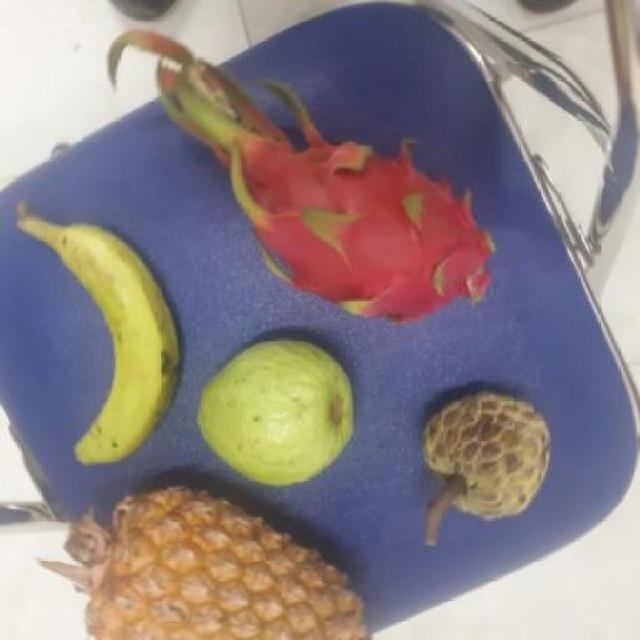banana: (44, 220, 184, 468)
dragon fruit: (232, 127, 506, 325)
guava: (194, 336, 358, 496)
pineapple: (89, 479, 380, 639)
sugar apple: (421, 391, 557, 520)
